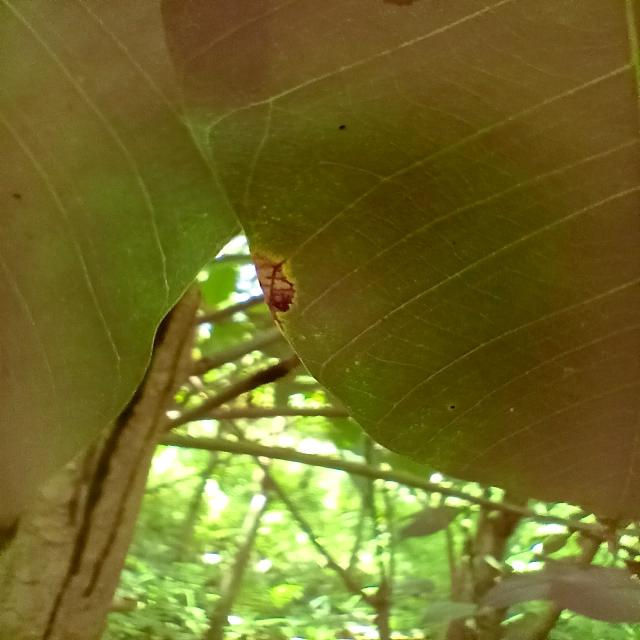Colletotrichum: (339, 125, 346, 130), (450, 406, 455, 409)
Leaf-Blight: (252, 256, 294, 317)
